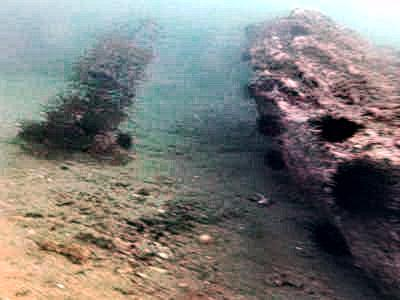urchin: (330, 154, 392, 219), (307, 219, 349, 257), (317, 116, 355, 143), (116, 133, 129, 147)
